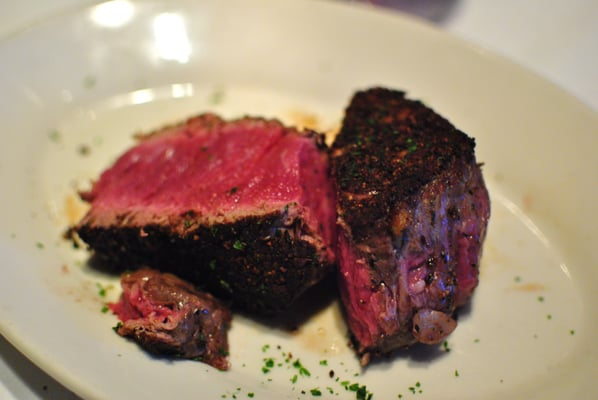sushi: (68, 112, 340, 329), (328, 86, 492, 361)
